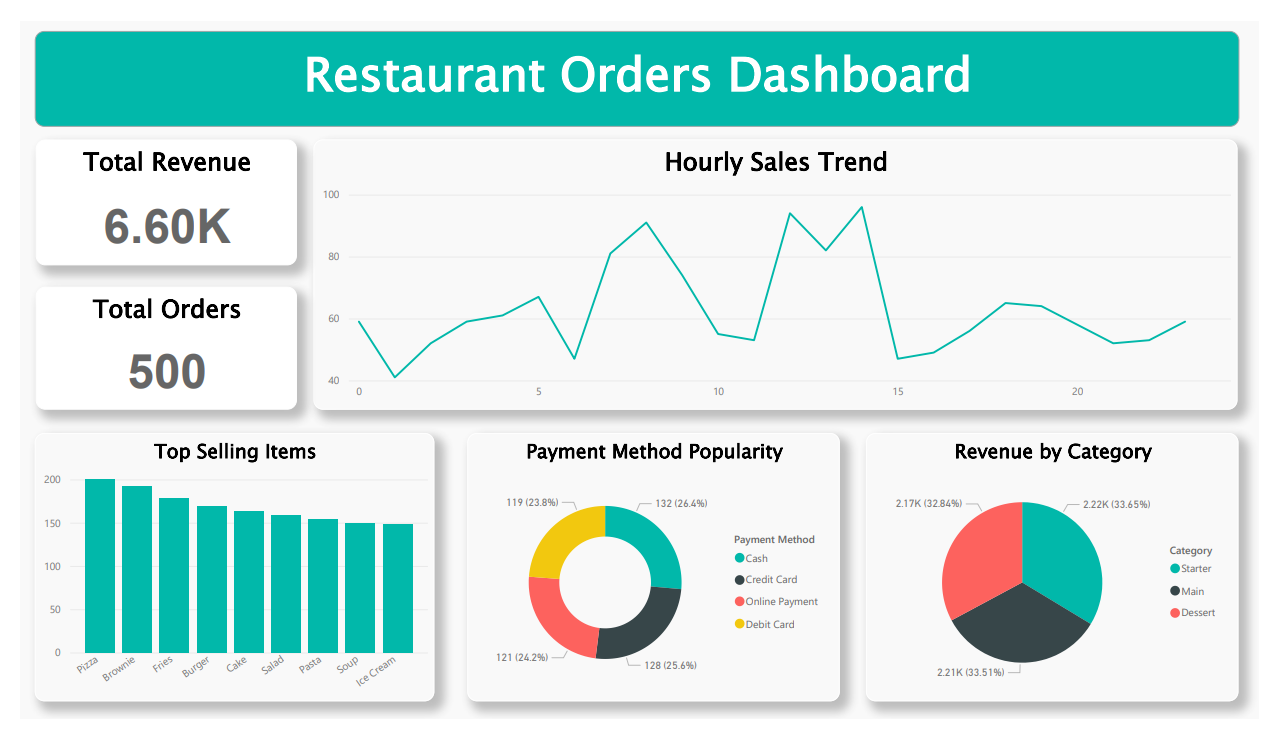

The dashboard page shown, as its layout file describes it:
{"tool":"powerbi","page":{"name":"Page 1","canvas":[1280,720],"ordinal":0},"visuals":[{"type":"columnChart","title":"Top Selling Items","fields":{"Category":["restaurant_orders.Food Item"],"Y":["Sum(restaurant_orders.Quantity)"]},"box":[14.9,425.4,413.2,276.4],"z":0},{"type":"pieChart","title":"Revenue by Category","fields":{"Category":["restaurant_orders.Category"],"Y":["Sum(restaurant_orders.Price)"]},"box":[873.8,425.4,384.8,276.4],"z":1000},{"type":"donutChart","title":"Payment Method Popularity","fields":{"Category":["restaurant_orders.Payment Method"],"Y":["CountNonNull(restaurant_orders.Order ID)"]},"box":[462,425.4,384.8,276.4],"z":2000},{"type":"lineChart","title":"Hourly Sales Trend","fields":{"Category":["restaurant_orders.Hour"],"Y":["Sum(restaurant_orders.Quantity)"]},"box":[303.3,122.3,955,278.8],"z":3000},{"type":"cardVisual","title":"Total Revenue","fields":{"Data":["Sum(restaurant_orders.Price)"]},"box":[15.9,122.3,270.2,129.6],"z":4000},{"type":"textbox","box":[14.7,9.8,1244.8,99],"z":5000},{"type":"cardVisual","title":"Total Orders","fields":{"Data":["CountNonNull(restaurant_orders.Order ID)"]},"box":[15.9,273.9,270.2,127.2],"z":6000}]}

Visuals, with their boxes in screenshot pixels (x1, y1, x2, y2), scaled from the page's 1280x720 canvas onto the 1282x740 screenshot:
"Top Selling Items" columnChart: x1=15 y1=437 x2=429 y2=721
"Revenue by Category" pieChart: x1=875 y1=437 x2=1261 y2=721
"Payment Method Popularity" donutChart: x1=463 y1=437 x2=848 y2=721
"Hourly Sales Trend" lineChart: x1=304 y1=126 x2=1260 y2=412
"Total Revenue" cardVisual: x1=16 y1=126 x2=287 y2=259
textbox: x1=15 y1=10 x2=1261 y2=112
"Total Orders" cardVisual: x1=16 y1=282 x2=287 y2=412
